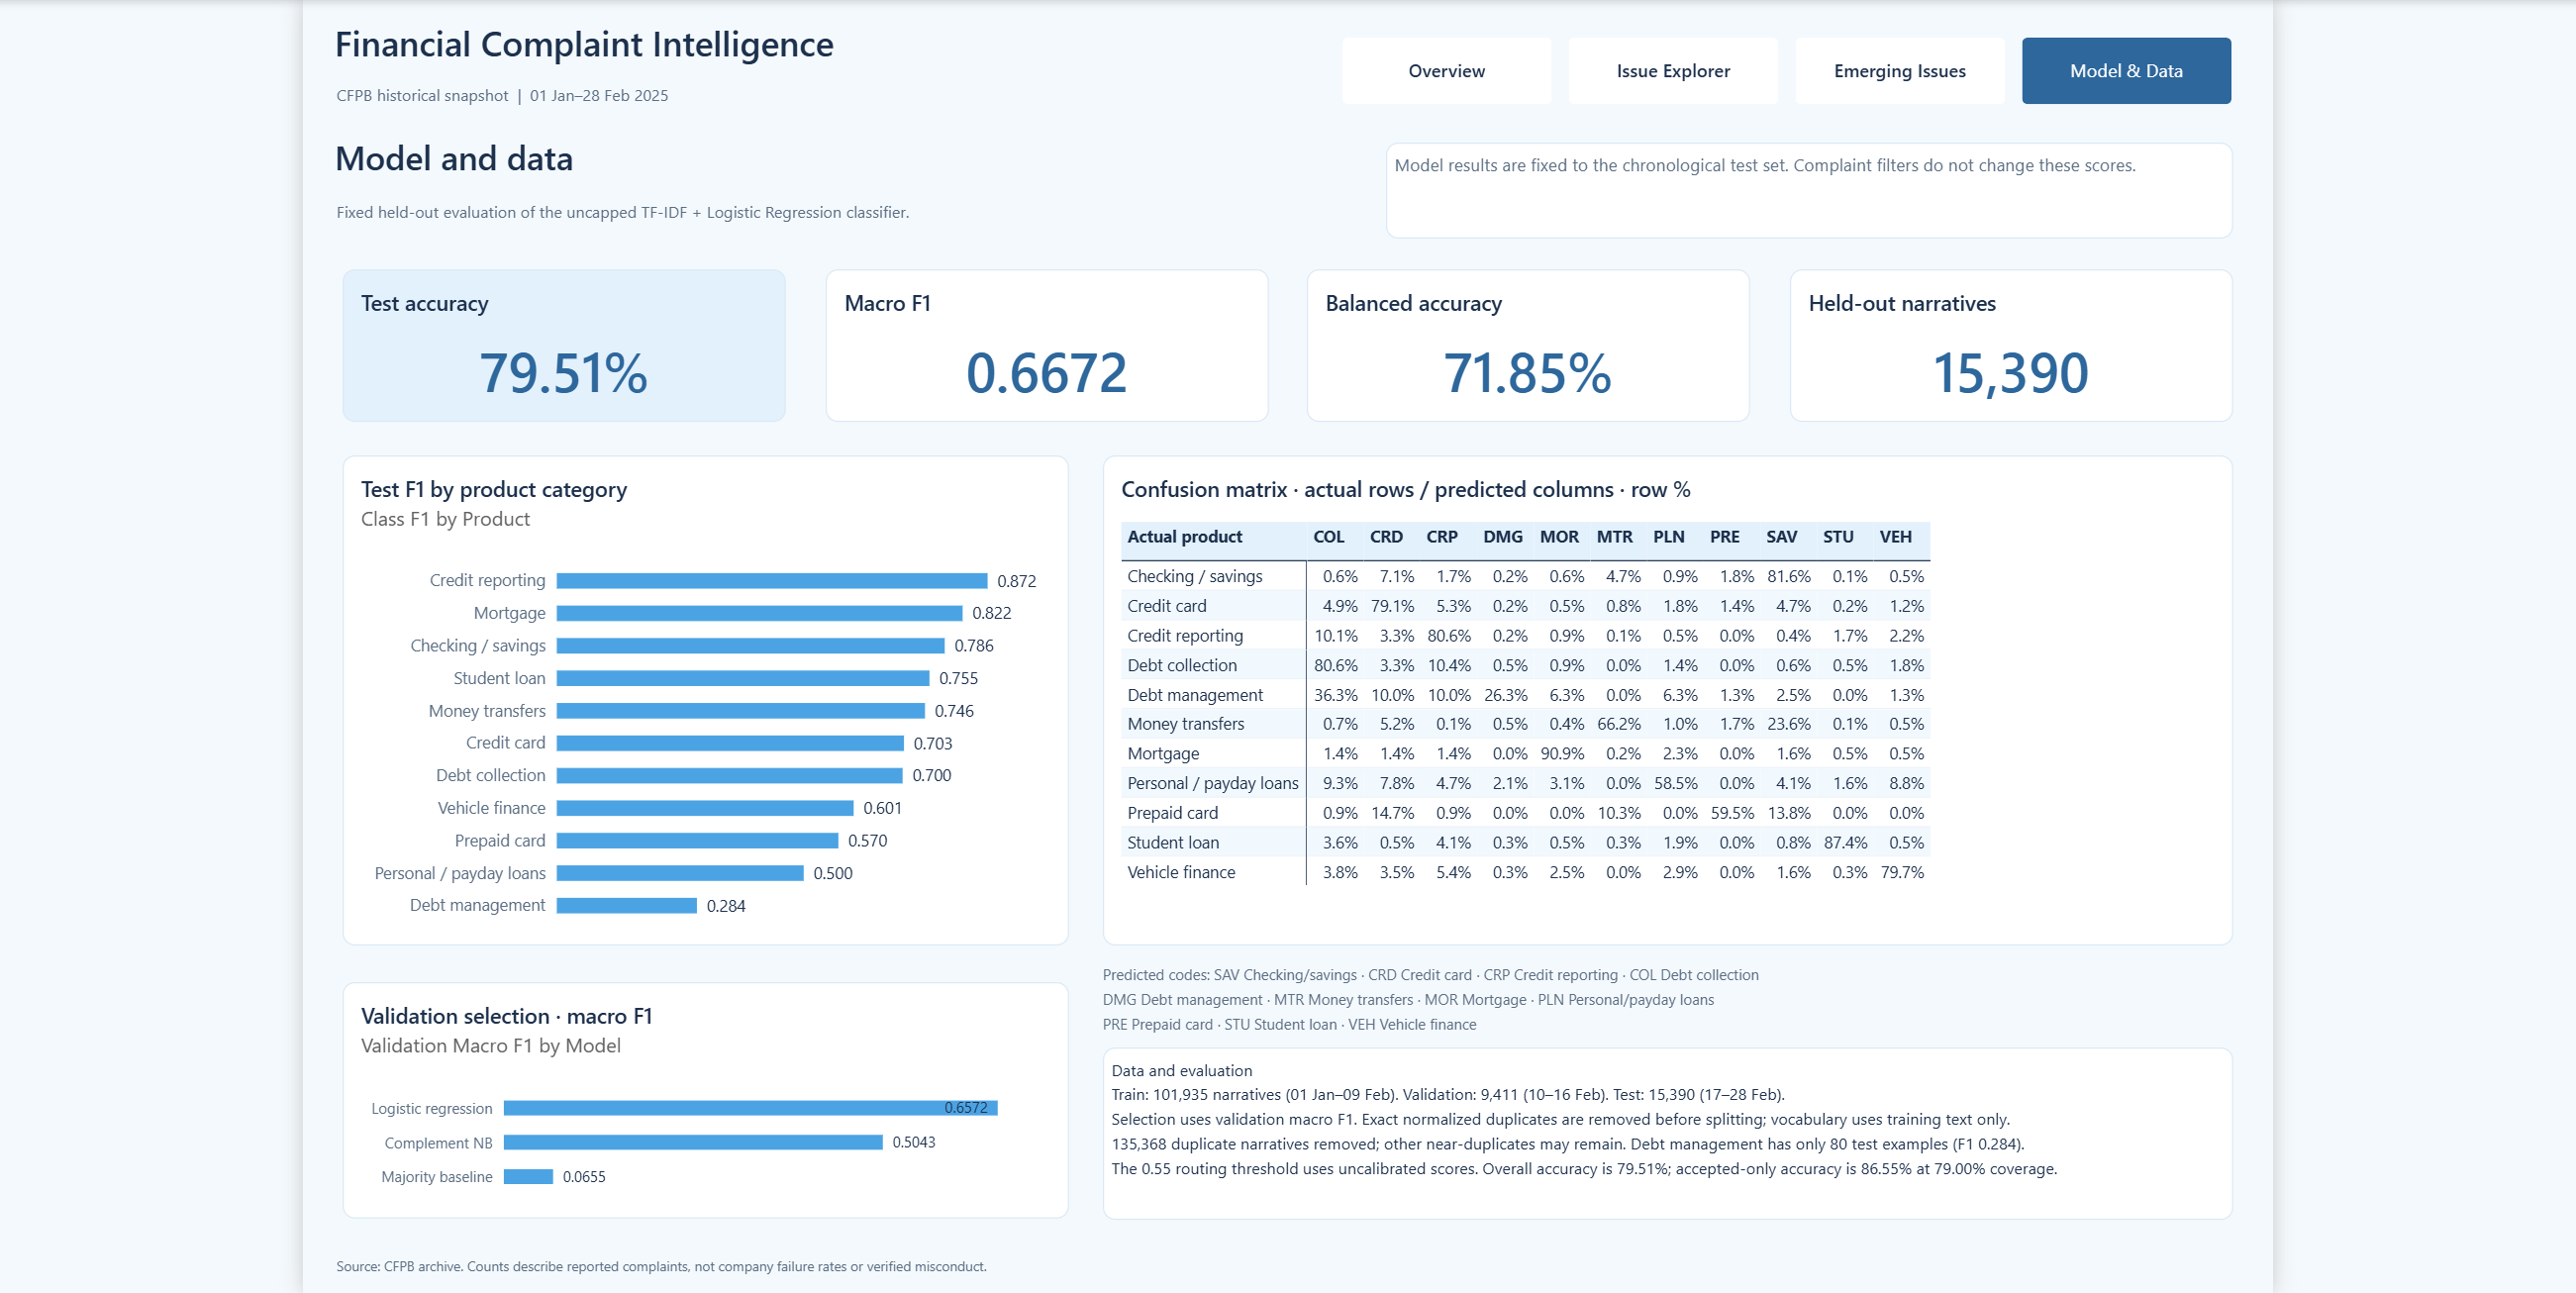

This screenshot's page, from the dashboard's own definition file:
{"tool":"powerbi","page":{"name":"Model & Data","canvas":[1600,1050],"ordinal":3},"visuals":[{"type":"textbox","box":[26,16,800,48],"z":48},{"type":"textbox","box":[28,66,770,29],"z":49},{"type":"pageNavigator","box":[844,30,724,54],"z":50},{"type":"textbox","box":[26,110,650,45],"z":51},{"type":"textbox","box":[28,160,630,36],"z":52},{"type":"textbox","box":[28,1016,1510,28],"z":53},{"type":"textbox","box":[880,116,688,78],"z":54},{"type":"card","title":"Test accuracy","fields":{"Values":["Model.Test Accuracy"]},"box":[32,218,360,124],"z":55},{"type":"card","title":"Macro F1","fields":{"Values":["Model.Test Macro F1"]},"box":[424,218,360,124],"z":56},{"type":"card","title":"Balanced accuracy","fields":{"Values":["Model.Test Balanced Accuracy"]},"box":[816,218,360,124],"z":57},{"type":"card","title":"Held-out narratives","fields":{"Values":["Model.Held-out Narratives"]},"box":[1208,218,360,124],"z":58},{"type":"barChart","title":"Test F1 by product category","fields":{"Category":["Class Performance.Product Short"],"Y":["Class Performance.Class F1"]},"box":[32,370,590,398],"z":59},{"type":"pivotTable","title":"Confusion matrix · actual rows / predicted columns · row %","fields":{"Columns":["Confusion.Predicted Code"],"Rows":["Confusion.Actual Short"],"Values":["Confusion.Confusion Row Share"]},"box":[650,370,918,398],"z":60},{"type":"textbox","box":[650,780,918,68],"z":61},{"type":"barChart","title":"Validation selection · macro F1","fields":{"Category":["Validation Models.Model"],"Y":["Validation Models.Validation Macro F1"]},"box":[32,798,590,192],"z":62},{"type":"textbox","box":[650,850,918,140],"z":63}]}

Visuals, with their boxes on the page's 1600x1050 design canvas (x1, y1, x2, y2). These are canvas units, not pixel positions in the 2576x1293 screenshot, which may show the page scaled, cropped or inside an application window:
textbox: 26, 16, 826, 64
textbox: 28, 66, 798, 95
pageNavigator: 844, 30, 1568, 84
textbox: 26, 110, 676, 155
textbox: 28, 160, 658, 196
textbox: 28, 1016, 1538, 1044
textbox: 880, 116, 1568, 194
"Test accuracy" card: 32, 218, 392, 342
"Macro F1" card: 424, 218, 784, 342
"Balanced accuracy" card: 816, 218, 1176, 342
"Held-out narratives" card: 1208, 218, 1568, 342
"Test F1 by product category" barChart: 32, 370, 622, 768
"Confusion matrix · actual rows / predicted columns · row %" pivotTable: 650, 370, 1568, 768
textbox: 650, 780, 1568, 848
"Validation selection · macro F1" barChart: 32, 798, 622, 990
textbox: 650, 850, 1568, 990
